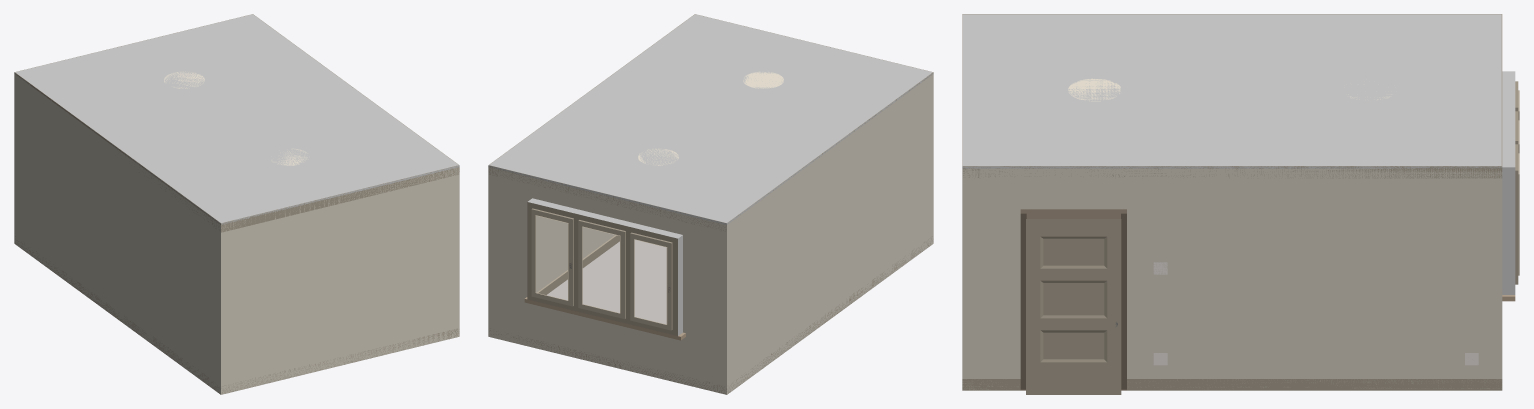
File: Bedroom.glb
The picture shows the model from 3 angles, left to right: view 1: azimuth 30°, elevation 25°; view 2: azimuth 150°, elevation 25°; view 3: azimuth 270°, elevation 25°; orthographic projection. The views are drawn at different scales.
Visible parts, largest first — view 1: Wall, Ceiling, Top Wall, Bottom Wall, Lights; view 2: Wall, Ceiling, Windows, Floor, Bottom Wall, Top Wall, Lights, Window Seat; view 3: Wall, Ceiling, Door, Bottom Wall, Top Wall, Door Frame, Windows, Lights.
Part boxes in pixels (x1,y1,x2,y2): Wall: (14,73,459,394); Ceiling: (15,14,458,222); Top Wall: (14,14,459,232); Bottom Wall: (14,236,459,393); Lights: (164,71,308,165); Wall: (488,72,933,394); Ceiling: (489,14,932,222); Windows: (527,202,677,335); Floor: (546,240,666,324); Bottom Wall: (489,235,933,393); Top Wall: (488,14,933,231); Lights: (638,71,783,165); Window Seat: (524,297,685,340); Wall: (962,71,1515,389); Ceiling: (962,14,1501,165); Door: (1026,219,1121,394); Bottom Wall: (962,379,1502,390); Top Wall: (962,14,1502,178); Door Frame: (1020,209,1126,390); Windows: (1515,81,1519,284); Lights: (1068,78,1391,101).
Size of the model in its own units: 16.47 by 11 by 24.77.
